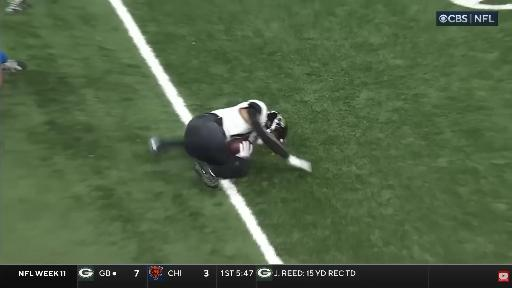Helmet: (266, 111, 287, 142)
Jersey: (212, 100, 267, 138)
Player: (150, 100, 311, 187)
